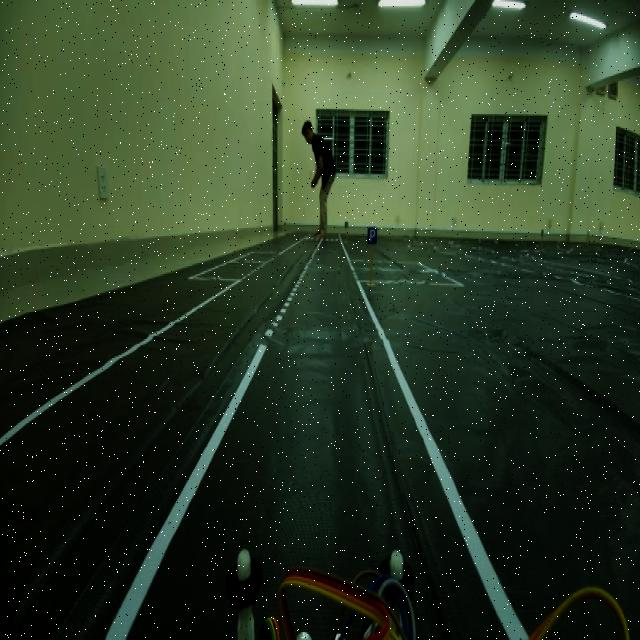parking: (364, 220, 380, 247)
